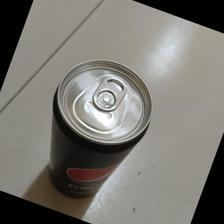Pepsi: (48, 59, 152, 202)
